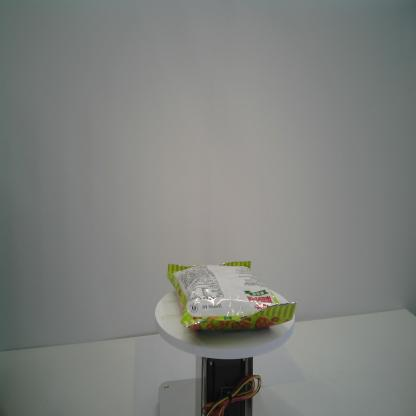Puffed Food: (166, 260, 297, 332)
